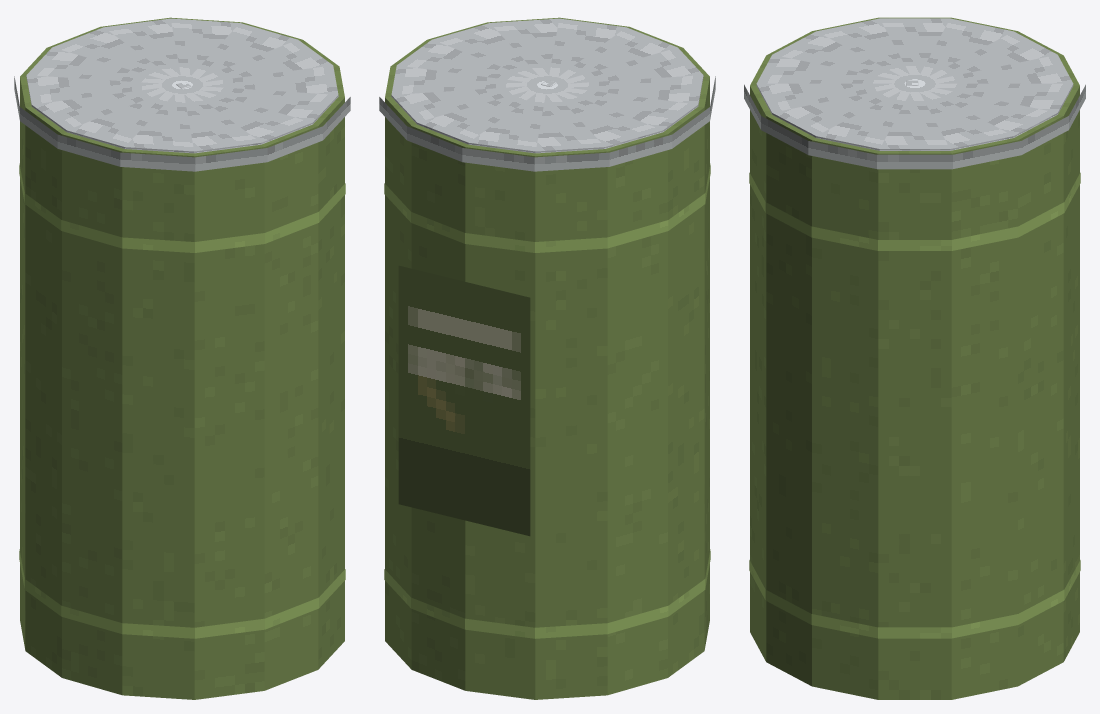
The model's file is colamdew.glb.
3 renders of one model, left to right at view 1: azimuth 30°, elevation 25°; view 2: azimuth 150°, elevation 25°; view 3: azimuth 270°, elevation 25°, orthographic.
Parts seen in each view (by area): view 1: block_body, block_top, block_printed rim stripe (×2), block_rolled seam; view 2: block_body, block_top, block_readable printed beverage label, block_printed rim stripe (×2), block_rolled seam; view 3: block_body, block_top, block_printed rim stripe (×2), block_rolled seam.
Part boxes in pixels (x1,y1,x2,y2): block_body: [20, 17, 344, 699]; block_top: [26, 18, 338, 153]; block_printed rim stripe (×2): [19, 163, 345, 638]; block_rolled seam: [14, 76, 350, 171]; block_body: [385, 17, 709, 699]; block_top: [391, 18, 703, 153]; block_readable printed beverage label: [398, 265, 530, 536]; block_printed rim stripe (×2): [384, 163, 710, 638]; block_rolled seam: [379, 76, 715, 171]; block_body: [750, 17, 1079, 699]; block_top: [756, 18, 1073, 150]; block_printed rim stripe (×2): [749, 172, 1080, 638]; block_rolled seam: [744, 84, 1085, 169].
Bounding box in the file's own units: 0.0897 × 0.1638 × 0.092.
2 materials, 2 textured.
